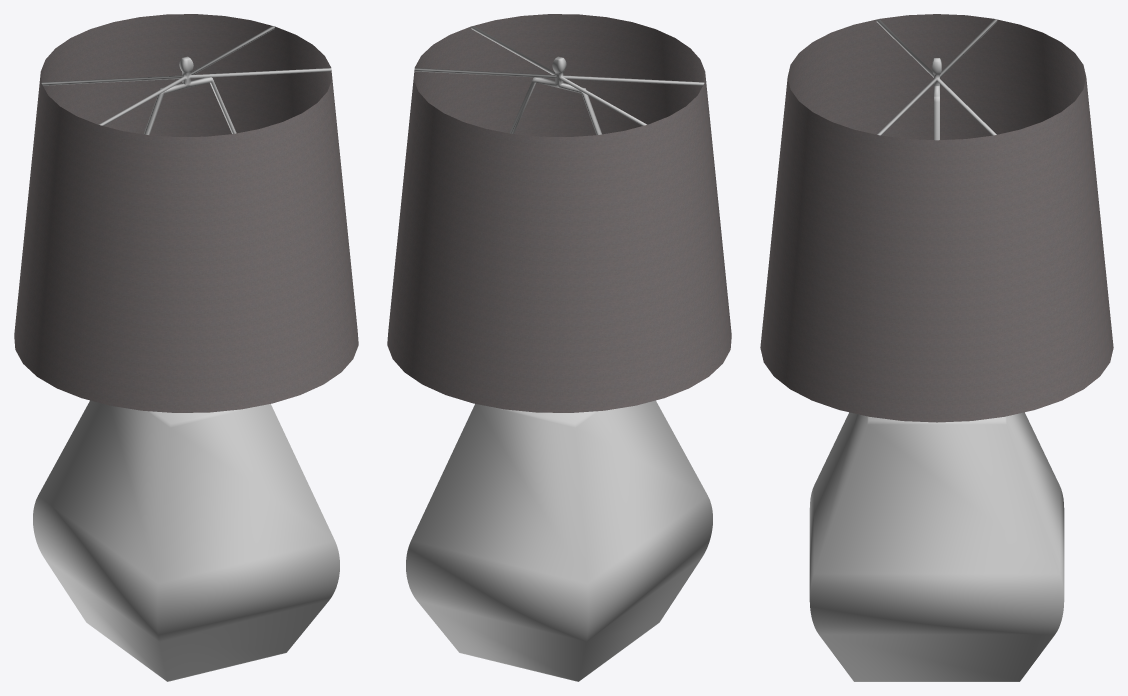
File: lampara.obj
The picture shows the model from 3 angles, left to right: view 1: azimuth 30°, elevation 25°; view 2: azimuth 150°, elevation 25°; view 3: azimuth 270°, elevation 25°; orthographic projection. The views are drawn at different scales.
Visible parts, largest first — view 1: Lamp_Shade_Cylinder.002, Base_Cube.001, Lamp_Shade_Metal_Cylinder; view 2: Lamp_Shade_Cylinder.002, Base_Cube.001, Lamp_Shade_Metal_Cylinder; view 3: Lamp_Shade_Cylinder.002, Base_Cube.001, Lamp_Shade_Metal_Cylinder.
Boxes of the visible parts, x1=… form: Lamp_Shade_Cylinder.002: x1=14, y1=14, x2=358, y2=412; Base_Cube.001: x1=33, y1=400, x2=339, y2=681; Lamp_Shade_Metal_Cylinder: x1=41, y1=26, x2=331, y2=134; Lamp_Shade_Cylinder.002: x1=387, y1=14, x2=731, y2=412; Base_Cube.001: x1=406, y1=400, x2=712, y2=681; Lamp_Shade_Metal_Cylinder: x1=414, y1=26, x2=704, y2=134; Lamp_Shade_Cylinder.002: x1=760, y1=14, x2=1113, y2=422; Base_Cube.001: x1=809, y1=412, x2=1064, y2=681; Lamp_Shade_Metal_Cylinder: x1=876, y1=19, x2=997, y2=140.
Bounding box in the file's own units: 0.3034 × 0.5618 × 0.3034.
